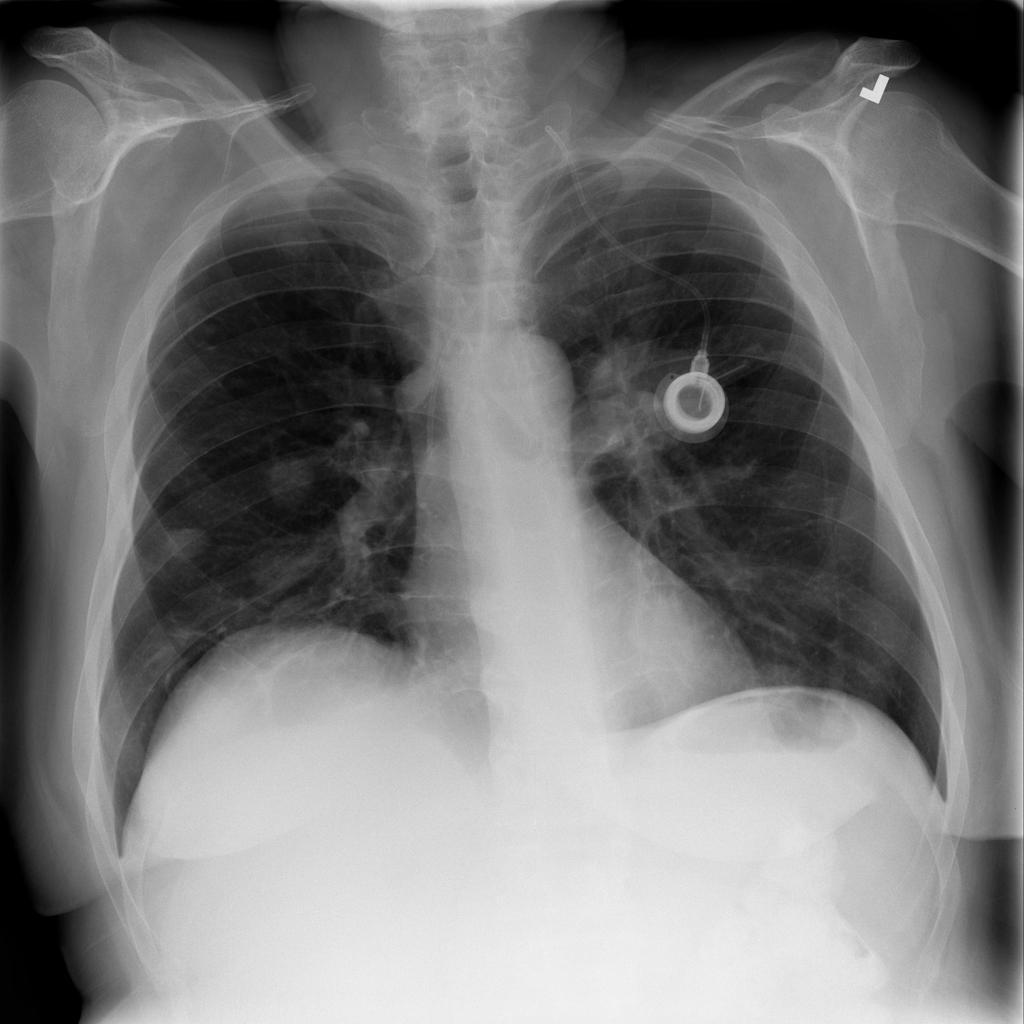nodule: (254, 444, 329, 521), (144, 510, 226, 577), (743, 639, 820, 710), (253, 211, 332, 272)
